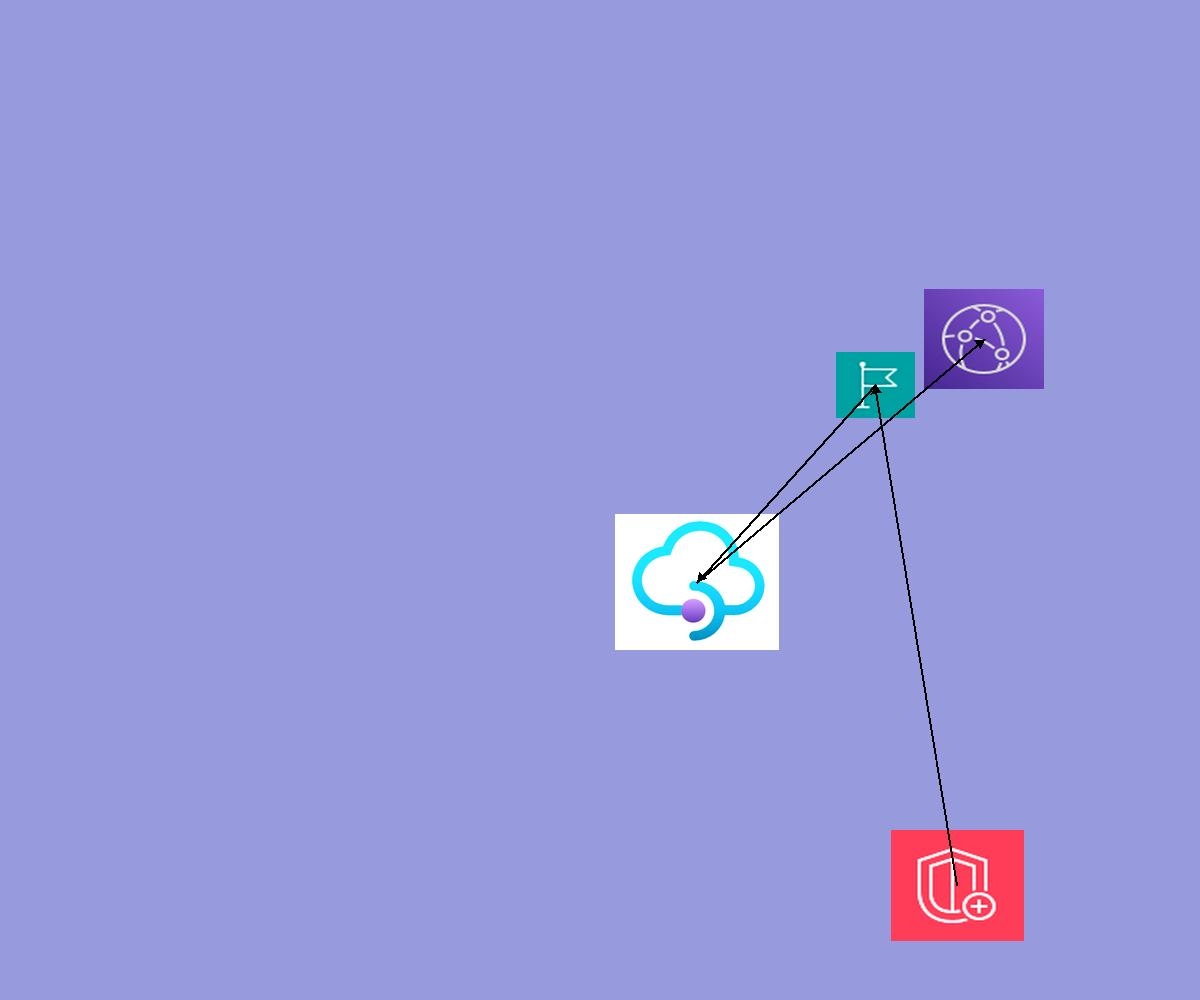AWS-CloudFront: (924, 289, 1044, 389)
AWS-Region: (836, 352, 915, 418)
AWS-Shield: (891, 830, 1024, 941)
Azure_api_gateway: (615, 514, 779, 650)
